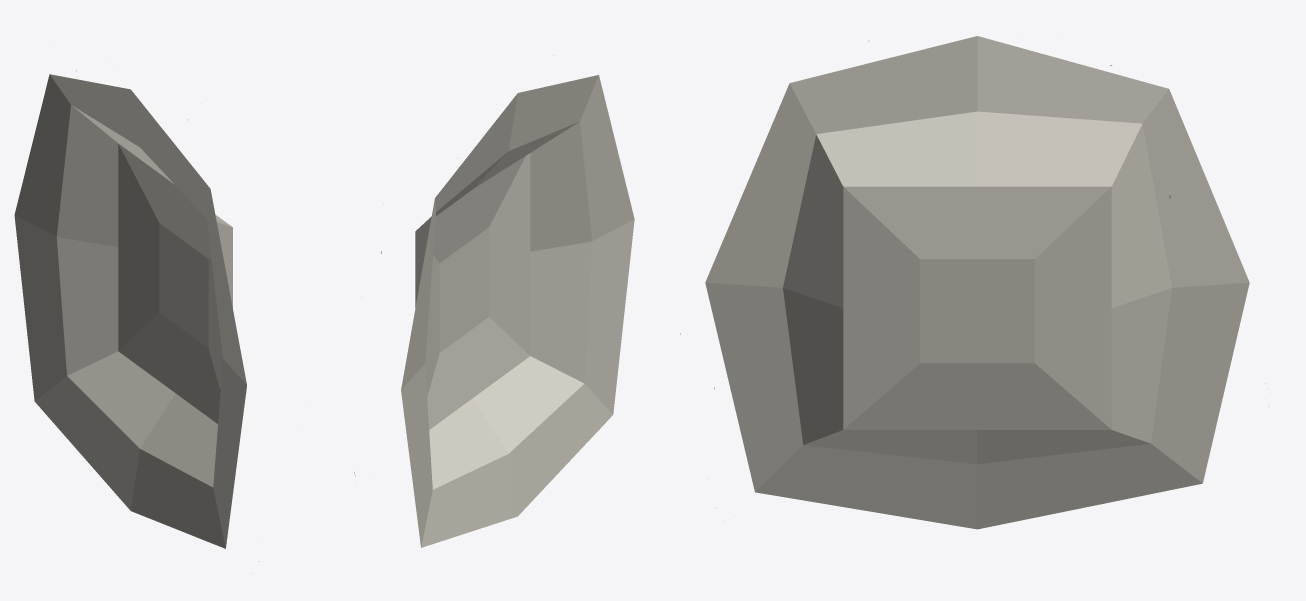
Rendered from PORTAL.fbx.
3 renders of one model, left to right at view 1: azimuth 30°, elevation 25°; view 2: azimuth 150°, elevation 25°; view 3: azimuth 270°, elevation 25°, orthographic. The views are drawn at different scales.
Parts seen in each view (by area): view 1: PORTAL; view 2: PORTAL; view 3: PORTAL.
Boxes of the visible parts, x1=… form: PORTAL: x1=14, y1=70, x2=259, y2=561; PORTAL: x1=354, y1=55, x2=634, y2=547; PORTAL: x1=680, y1=36, x2=1269, y2=529.
Bounding box in the file's own units: 84.35 × 624 × 624.
